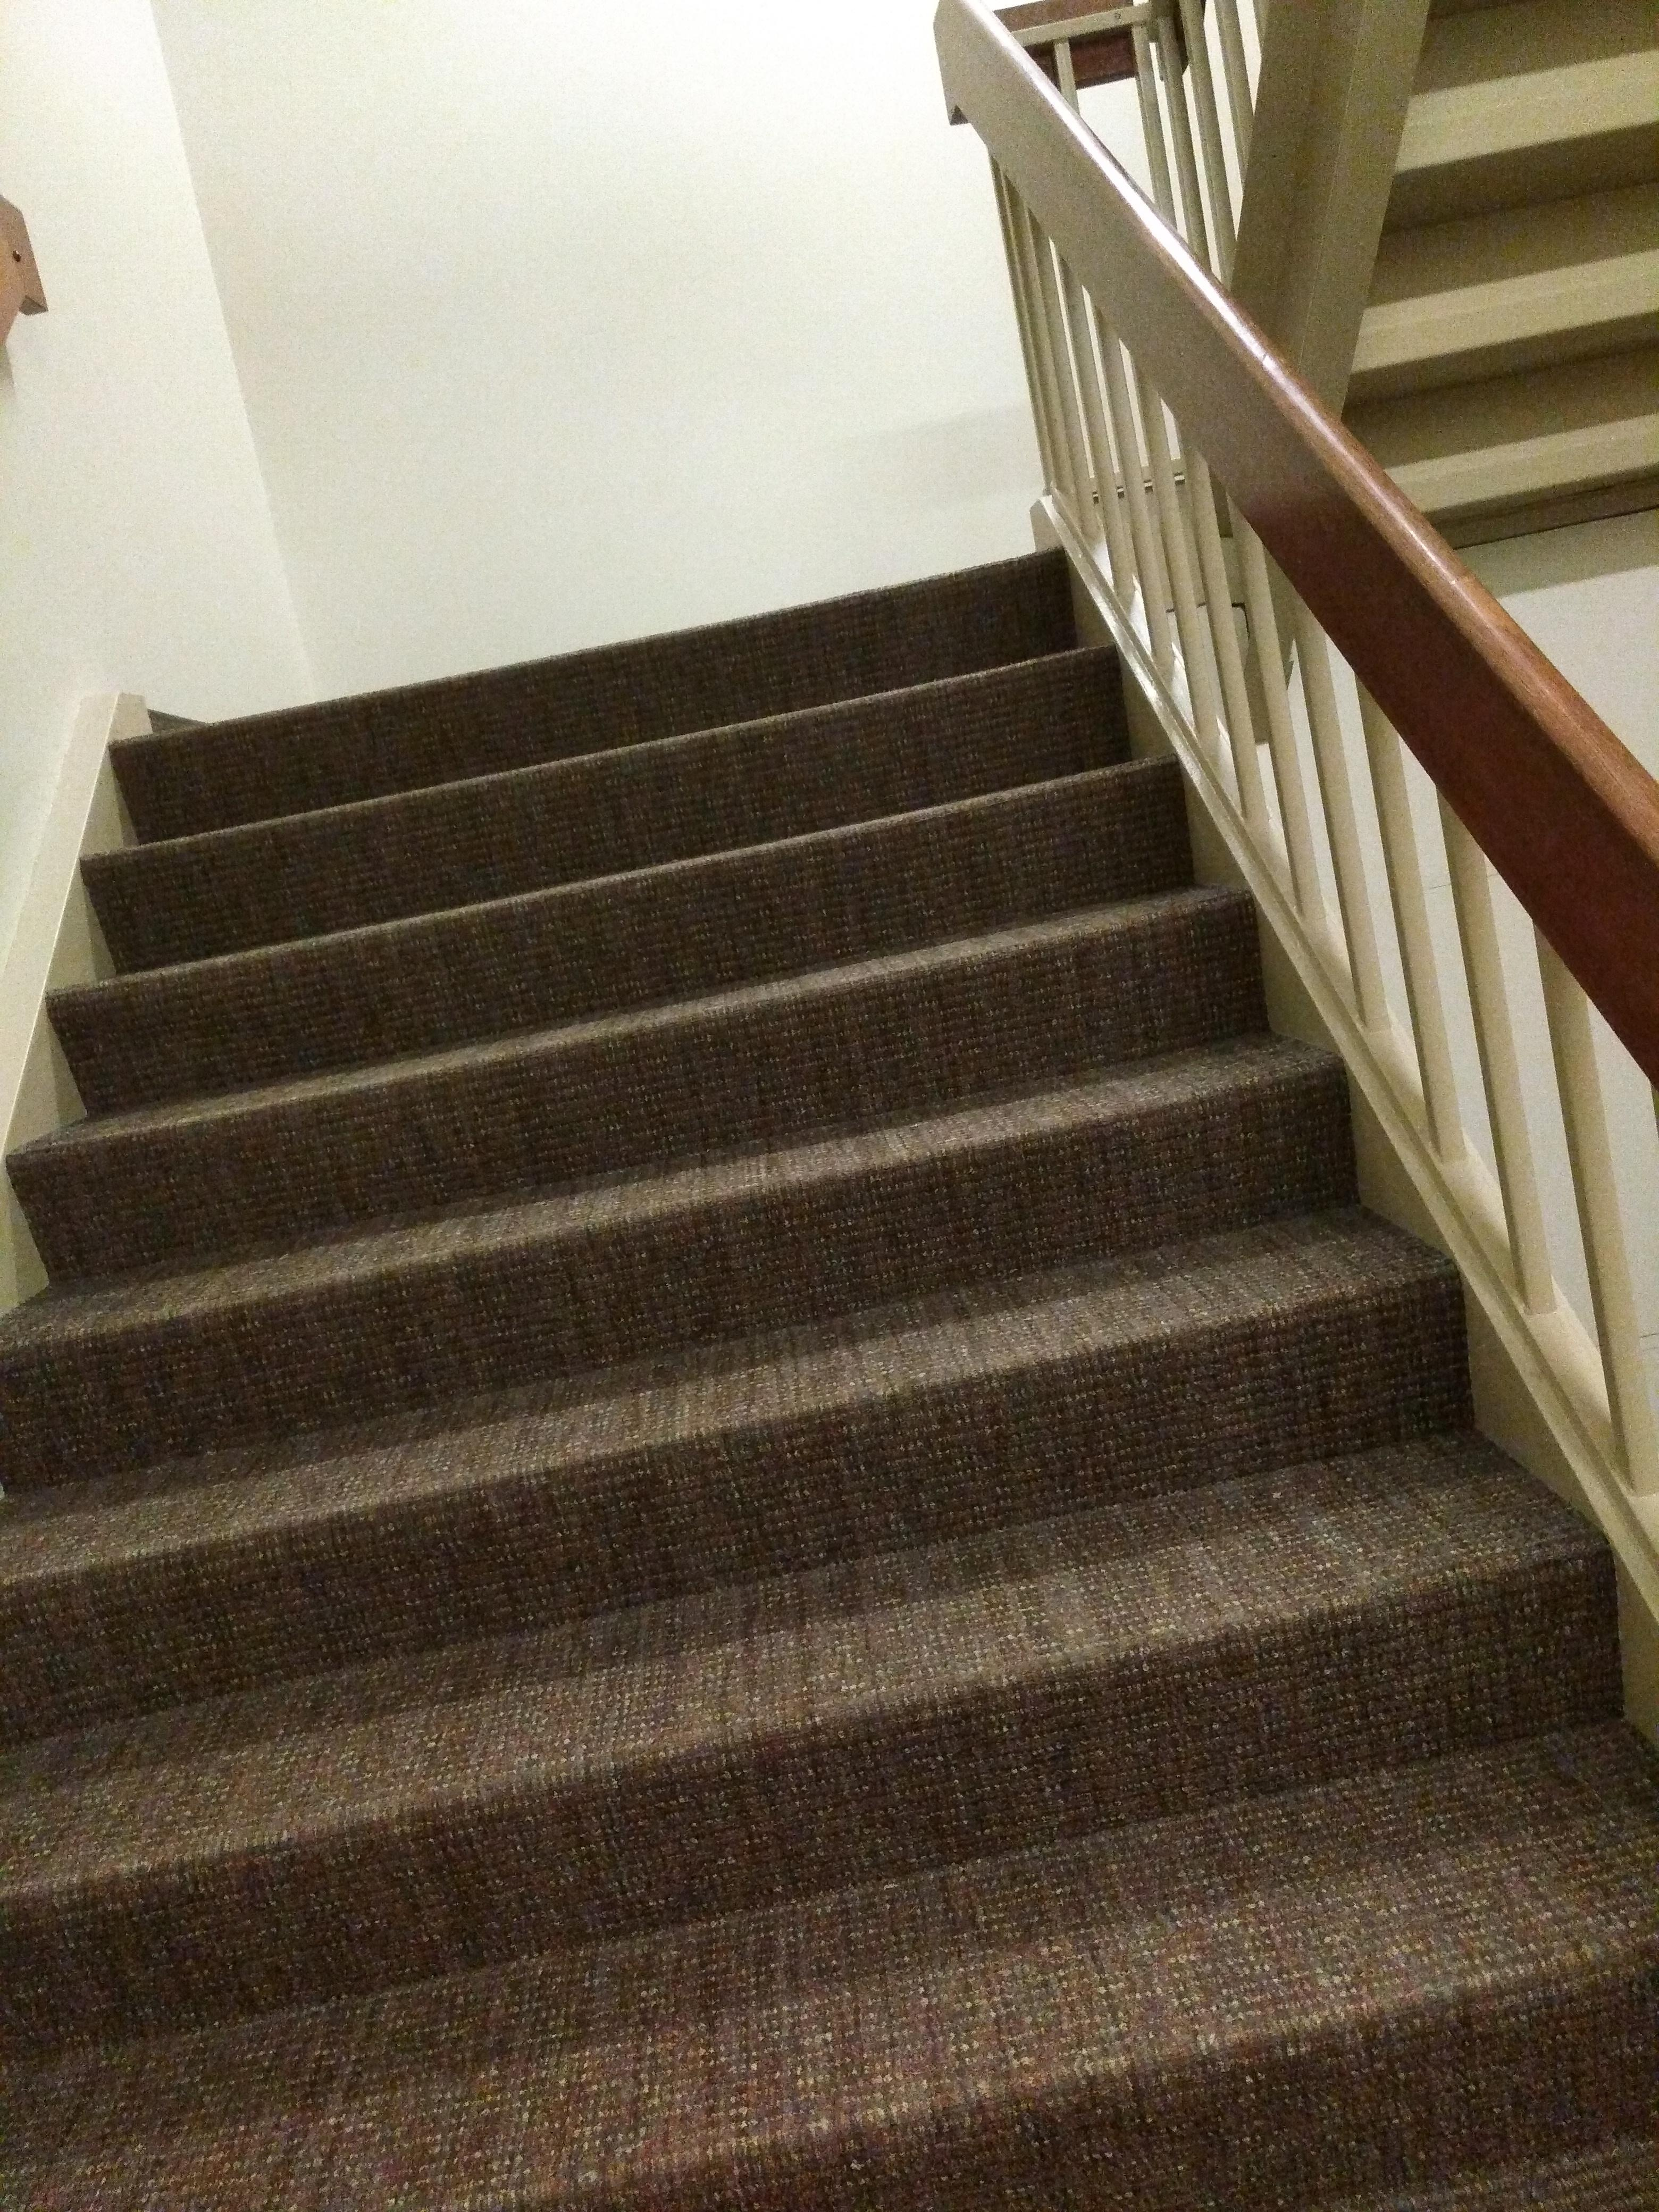stairs_up: (24, 543, 1659, 2212)
